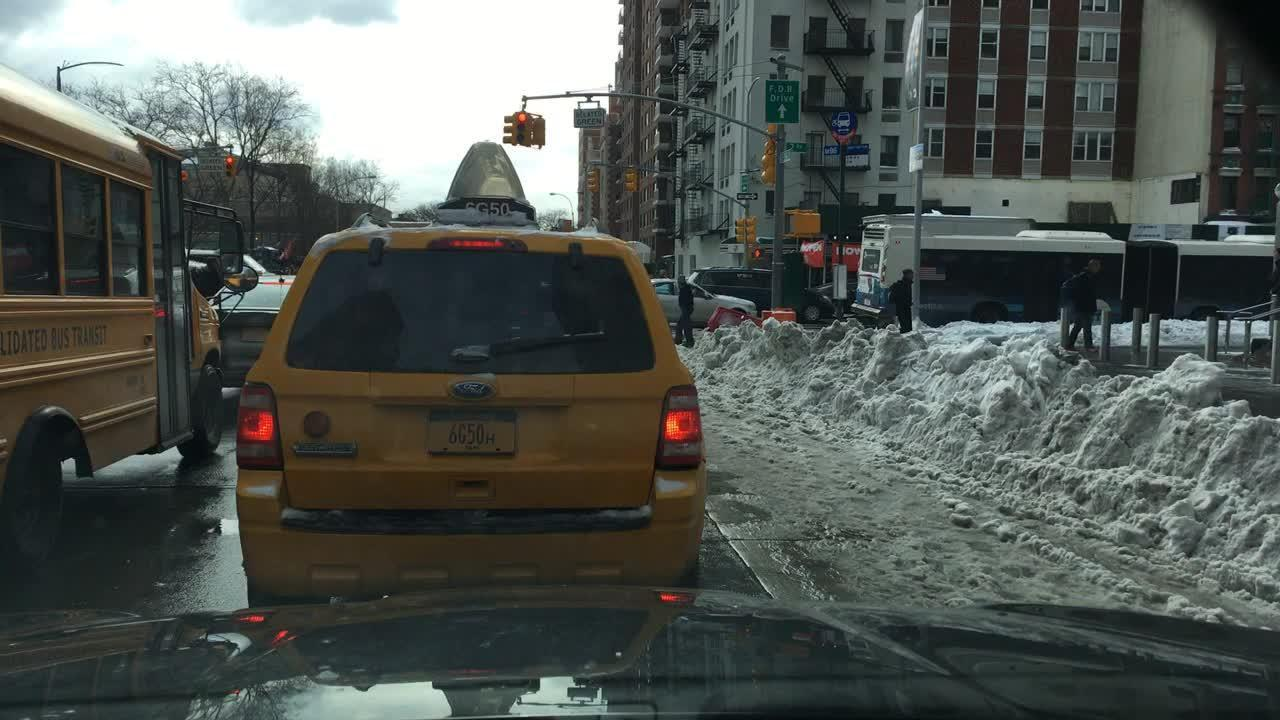ford: (447, 376, 498, 403)
